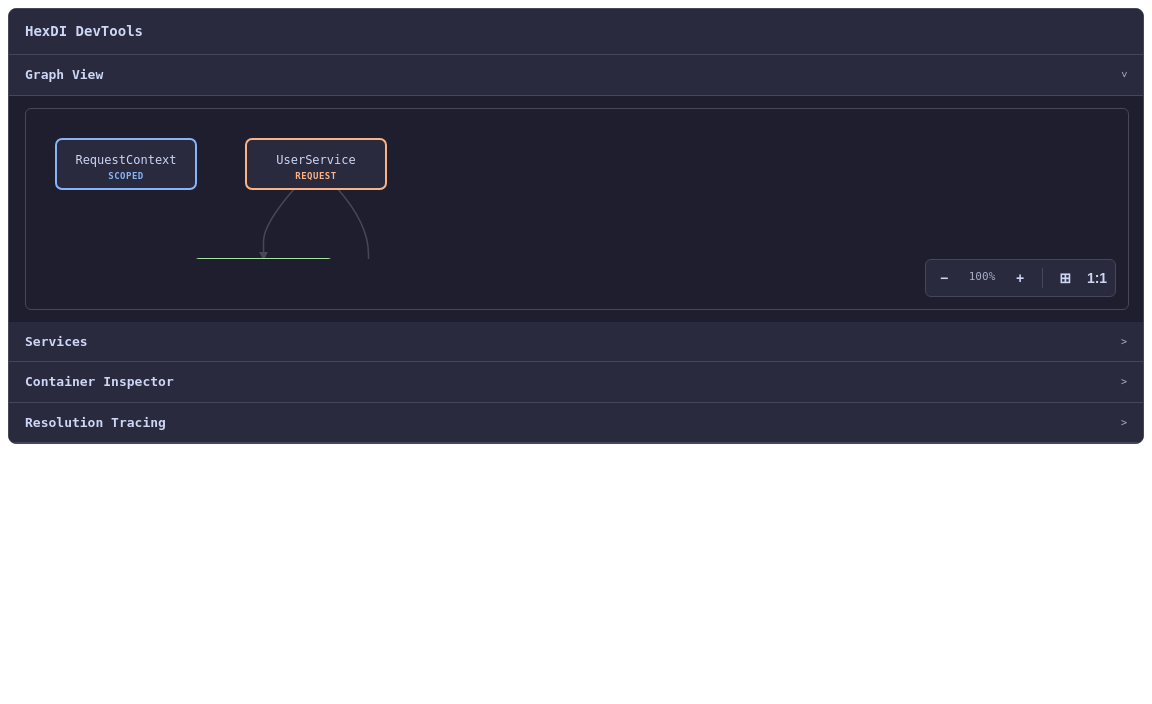
Test: ContainerInspector › search input filters services with 300ms debounce
Expand Container Inspector section
Click the button with test id "container-inspector-header": {"x": 99, "y": 382} x1=9 y1=362 x2=1143 y2=402
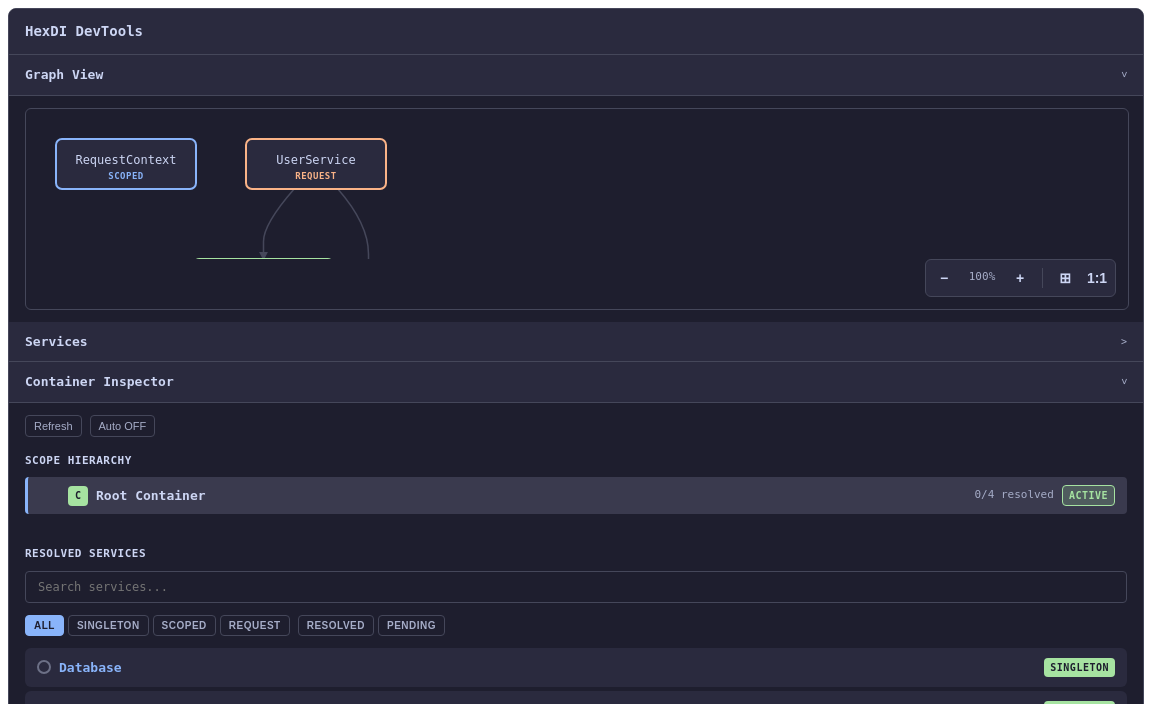
Check: the field with test id "service-search" is shown
Type in search - should be debounced
In the field with test id "service-search": {"x": 576, "y": 586} x1=25 y1=570 x2=1127 y2=602, type "Log"
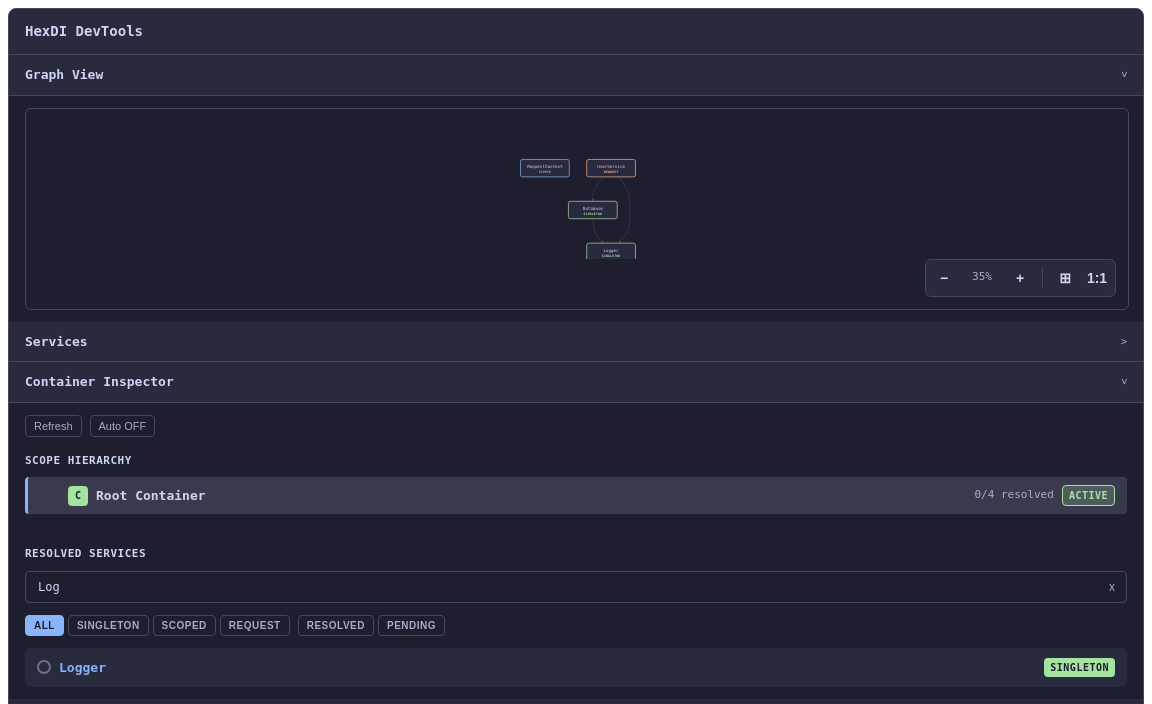
Check: the element with test id "service-item-Logger" is shown, box x1=25 y1=648 x2=1127 y2=687
Check: the element with test id "service-item-Database" is gone
